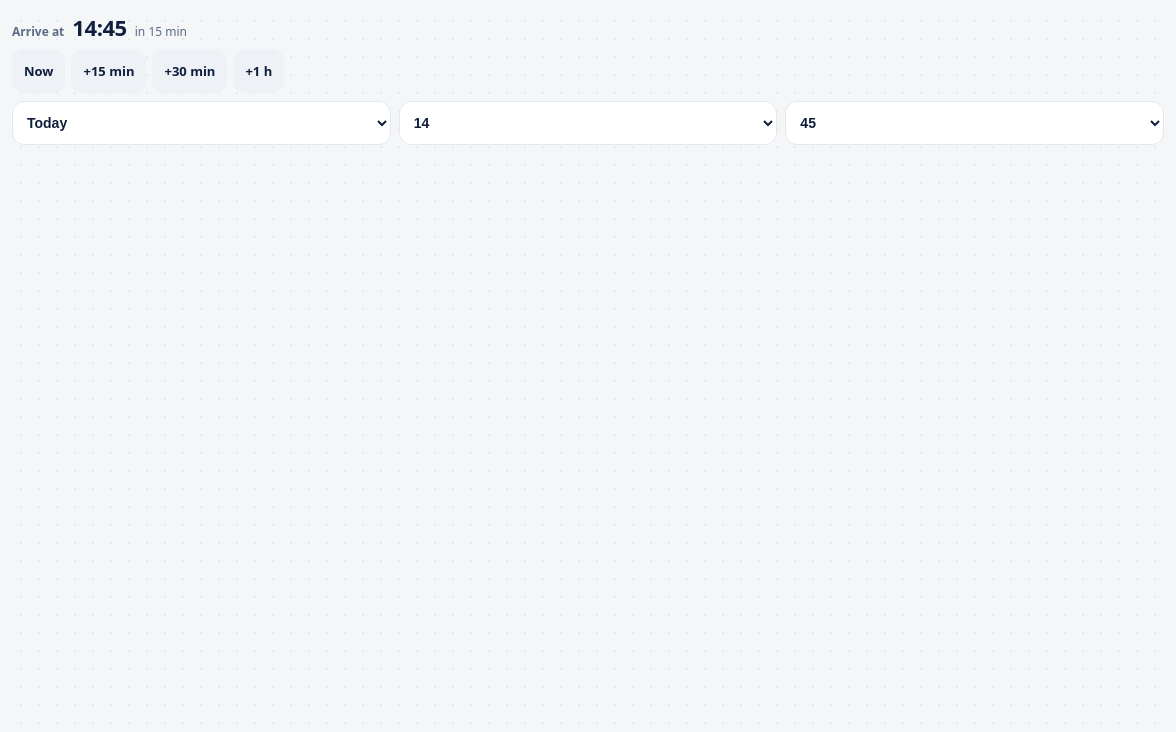
Test: the day/hour/minute selects › compose a time from the three selections, independent of the quick chips
The width and height of the screenshot is (1176, 732).
Expected: the text with test id "arrival-time" reads "14:45", top-left (72, 12), bottom-right (127, 42)
Select "16" in the 2nd dropdown named "Hour": (588, 123) top-left (399, 101), bottom-right (777, 145)
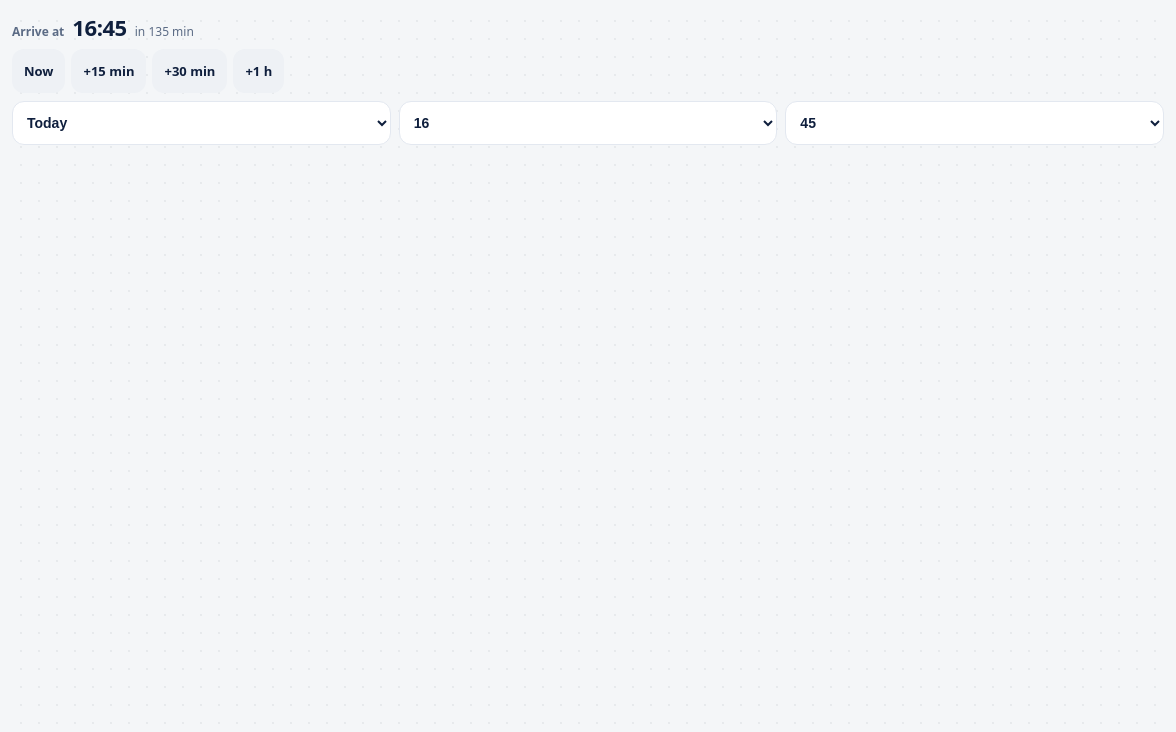
Result: the text with test id "arrival-time" reads "16:45" at top-left (72, 12), bottom-right (127, 42)
Select "10" in the 3rd dropdown named "Minute": (975, 123) top-left (785, 101), bottom-right (1164, 145)
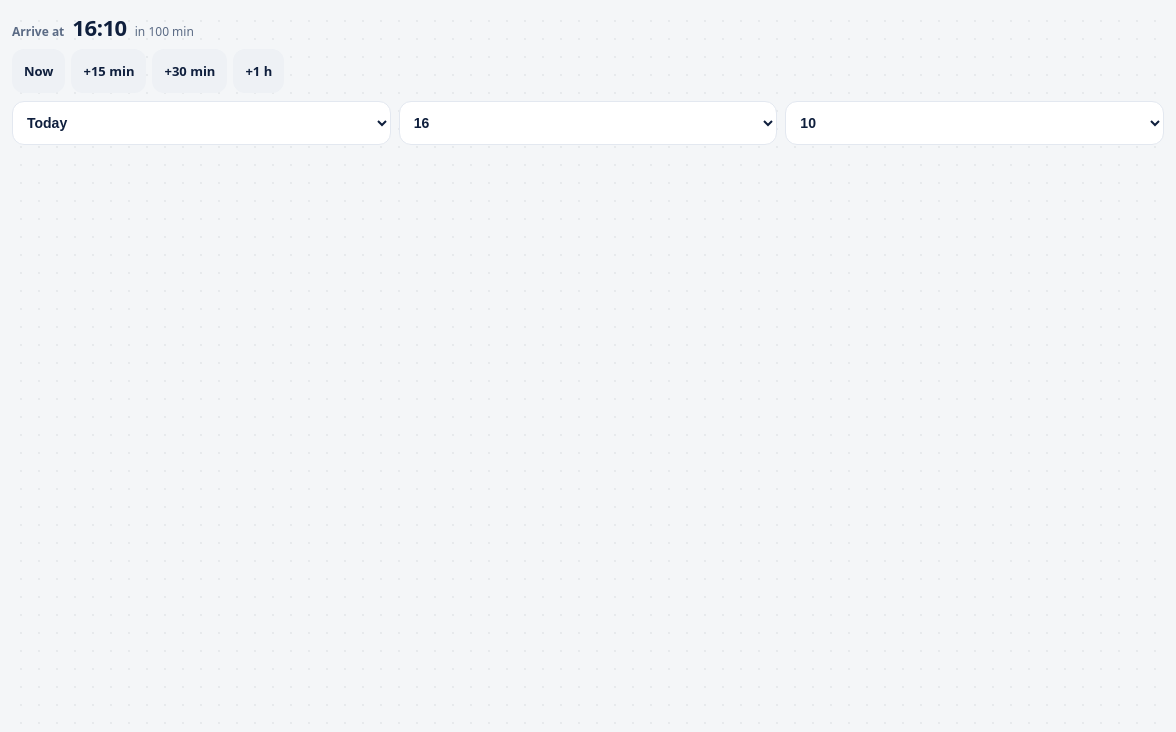
Result: the text with test id "arrival-time" reads "16:10" at top-left (72, 12), bottom-right (127, 42)
